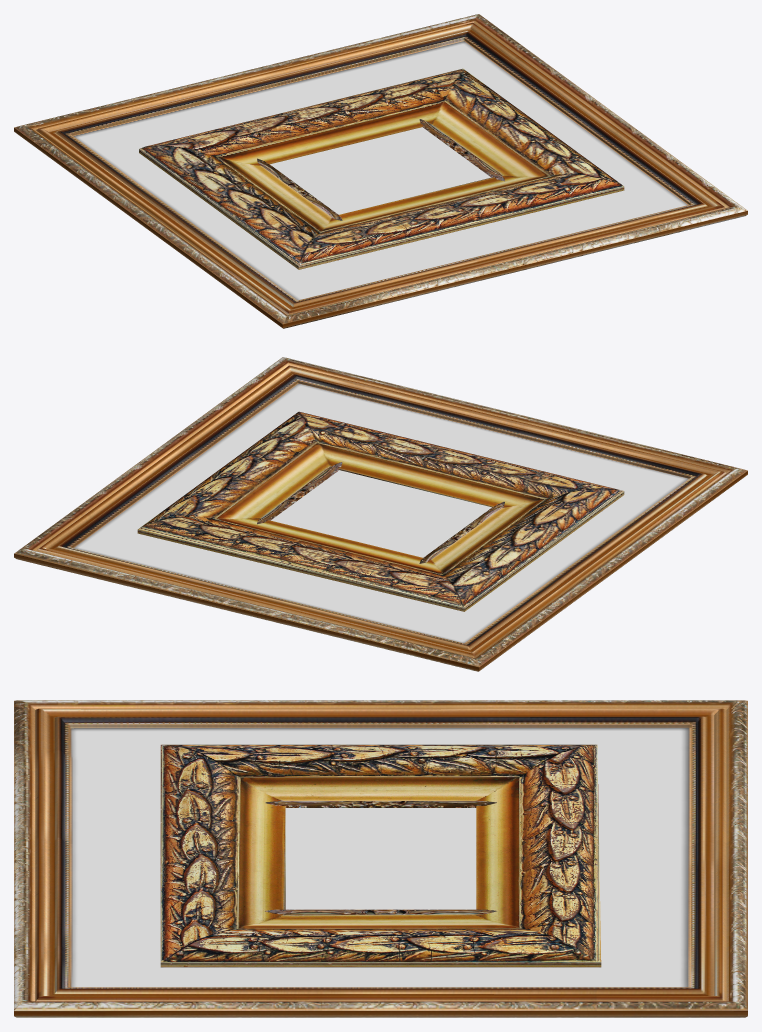
File: frames.fbx
The picture shows the model from 3 angles, top to bottom: view 1: azimuth 30°, elevation 25°; view 2: azimuth 150°, elevation 25°; view 3: azimuth 270°, elevation 25°; orthographic projection. The views are drawn at different scales.
Parts seen in each view (by area): view 1: frame-03, frame-05, frame-02; view 2: frame-03, frame-05, frame-02; view 3: frame-03, frame-05, frame-02.
Part boxes in pixels (bbox=[...]): frame-03: bbox=[14, 14, 747, 328]; frame-05: bbox=[139, 68, 624, 269]; frame-02: bbox=[257, 119, 504, 220]; frame-03: bbox=[14, 357, 747, 671]; frame-05: bbox=[137, 411, 624, 611]; frame-02: bbox=[257, 462, 504, 563]; frame-03: bbox=[14, 700, 747, 1017]; frame-05: bbox=[160, 744, 601, 967]; frame-02: bbox=[265, 801, 496, 914].
Bounding box in the file's own units: 125 × 4.57 × 125.
